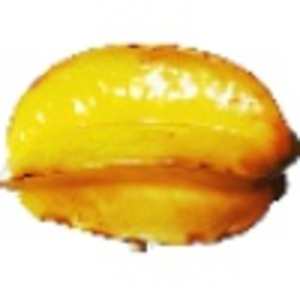carambola: (1, 31, 300, 256)
